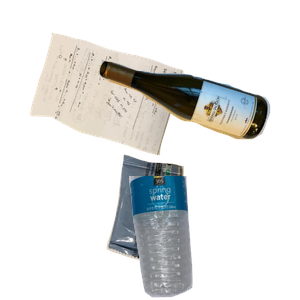glass: (95, 57, 300, 189)
paper: (27, 30, 203, 178)
plastic: (127, 176, 300, 300)
trash: (104, 152, 280, 300)
